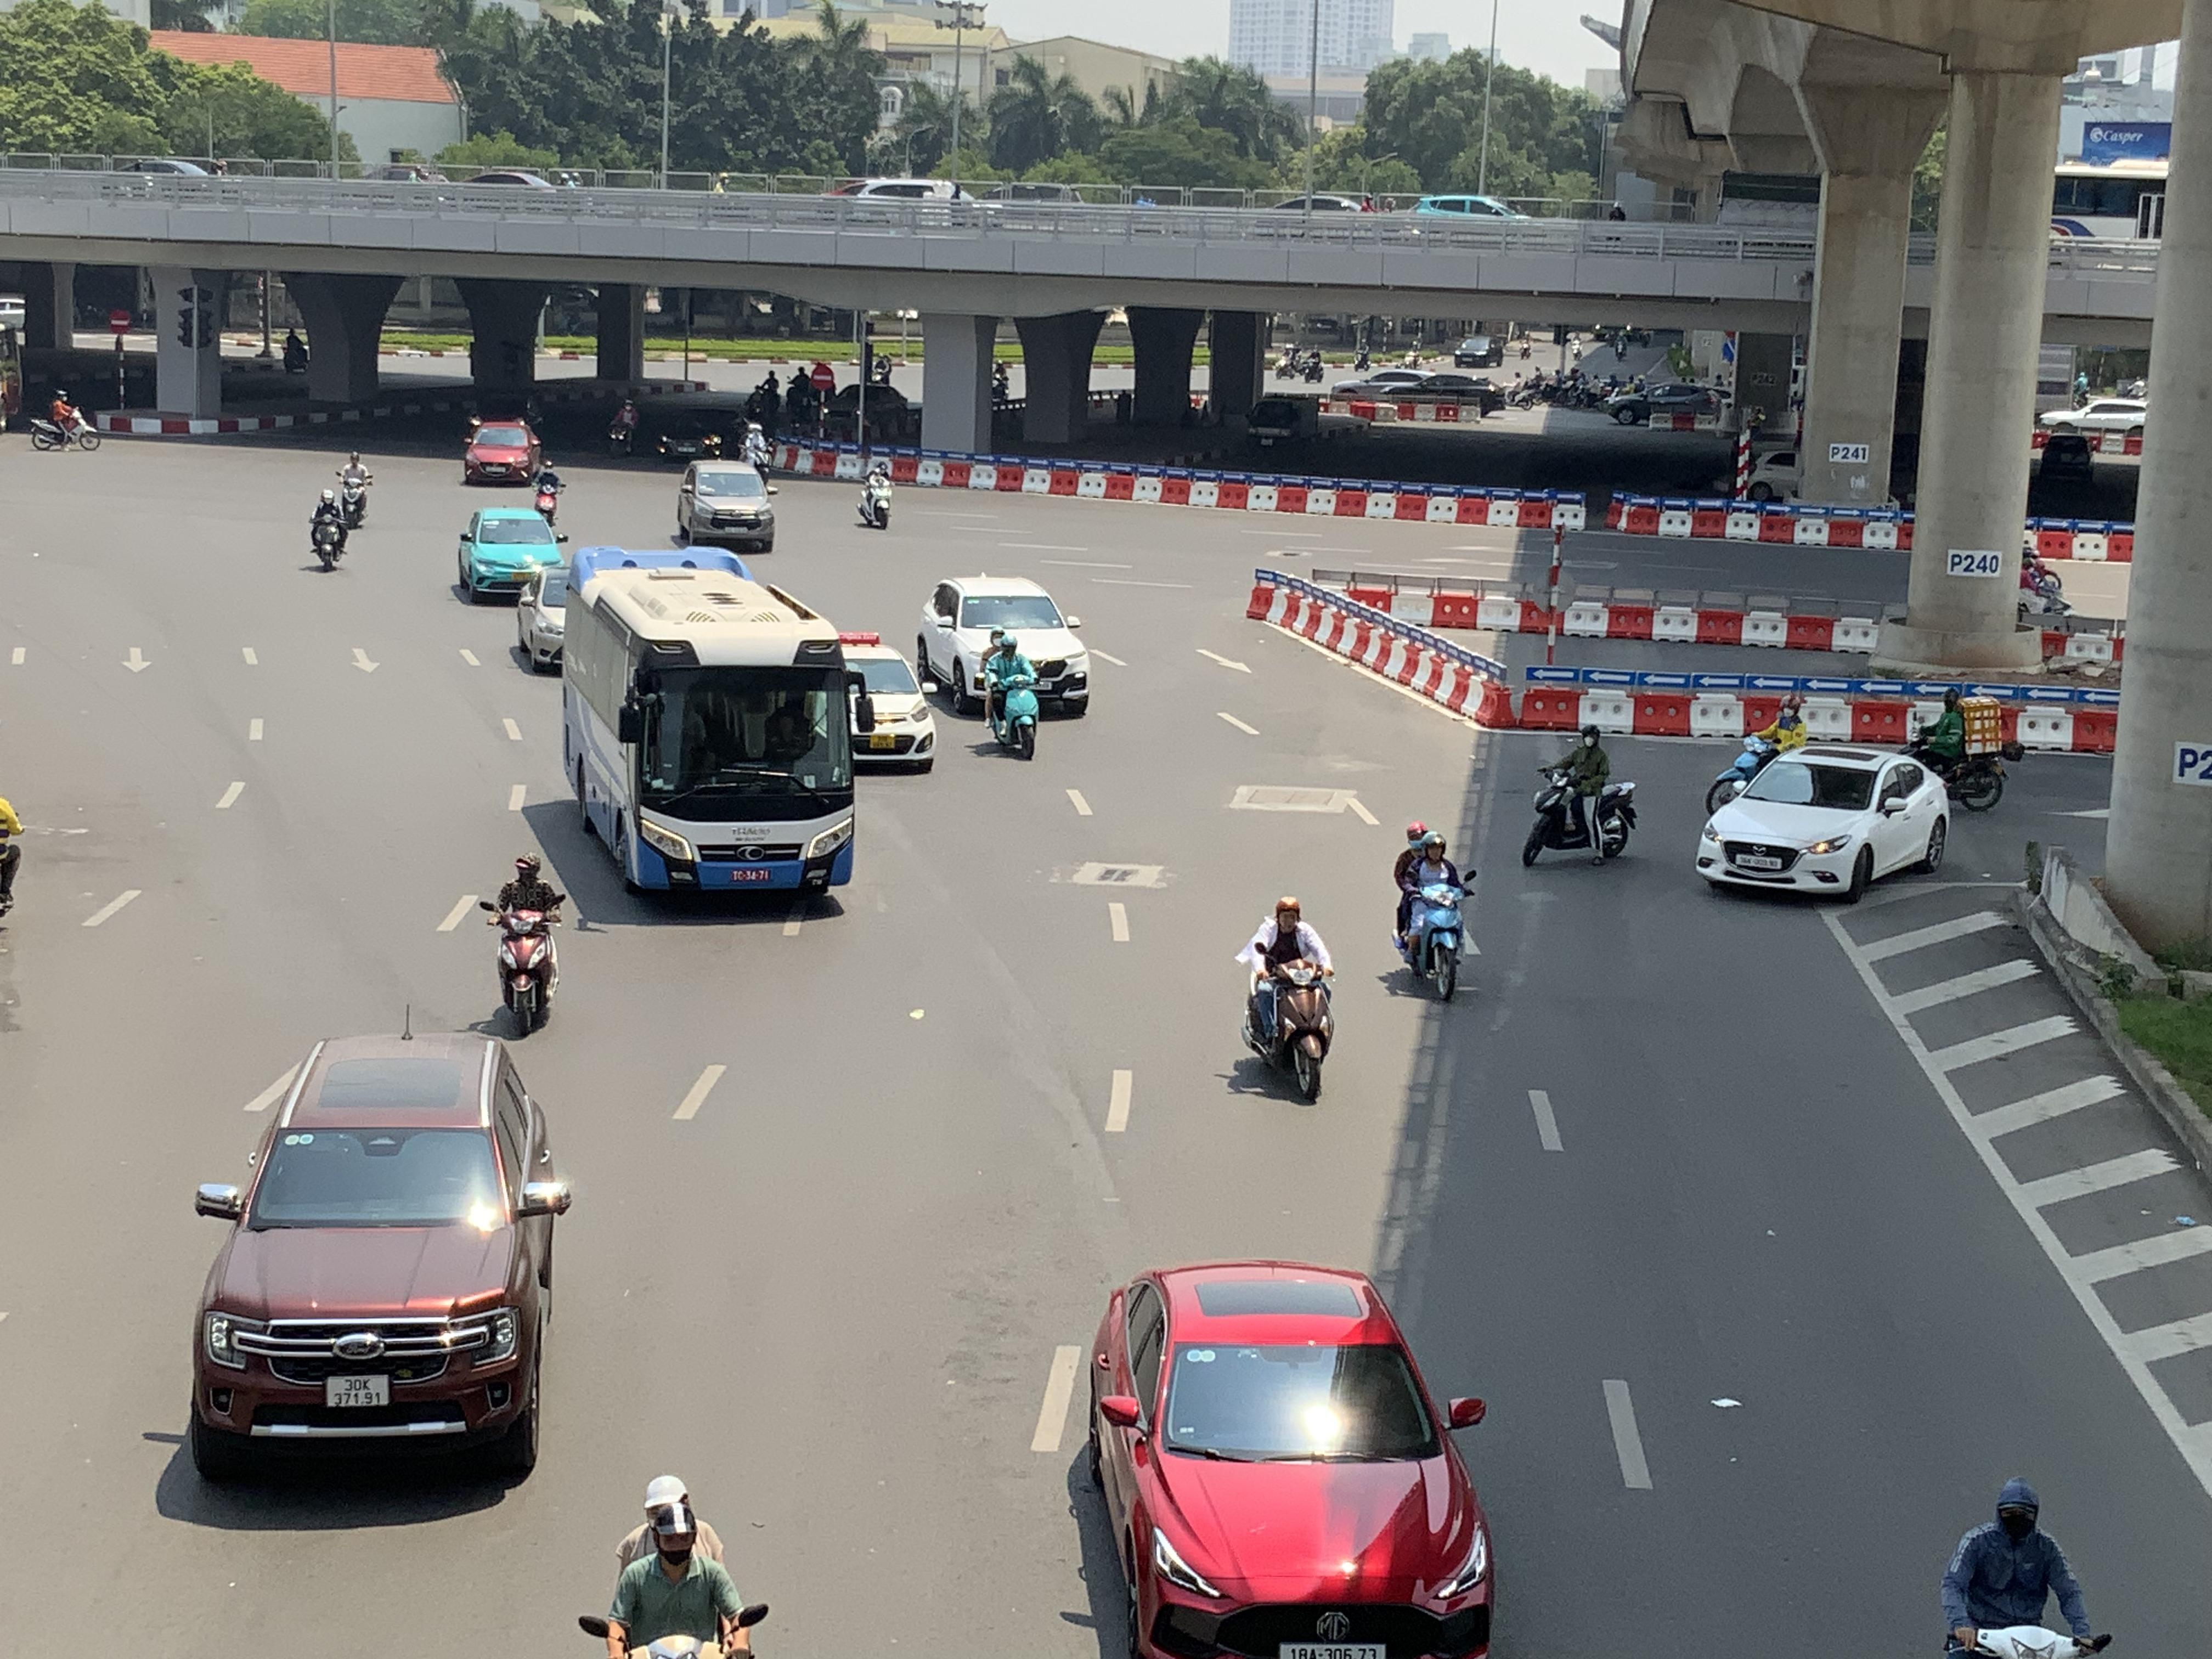BSD: (1280, 1642, 1386, 1659), (1735, 854, 1784, 870), (730, 870, 768, 882)
BSV: (326, 1375, 388, 1408)
bus: (561, 547, 859, 901)
car: (186, 1028, 573, 1486), (1068, 1258, 1498, 1659), (1696, 742, 1951, 904), (914, 573, 1090, 718), (841, 636, 937, 772), (453, 505, 566, 603), (672, 458, 777, 552), (510, 558, 568, 673), (462, 418, 543, 486), (1454, 333, 1501, 366)
motorbike: (578, 1476, 768, 1659), (1940, 1476, 2113, 1659), (1238, 894, 1336, 1105), (1522, 723, 1637, 868), (481, 852, 568, 1039), (1392, 823, 1475, 1002), (1905, 687, 2008, 810), (981, 629, 1042, 758), (28, 389, 103, 451), (310, 488, 348, 572), (334, 451, 373, 528), (531, 460, 566, 535), (855, 458, 892, 528)
